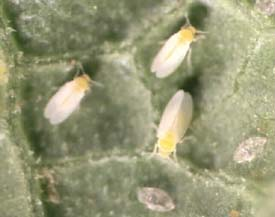whitefly: (144, 89, 193, 166), (150, 13, 207, 79), (43, 62, 101, 126)
